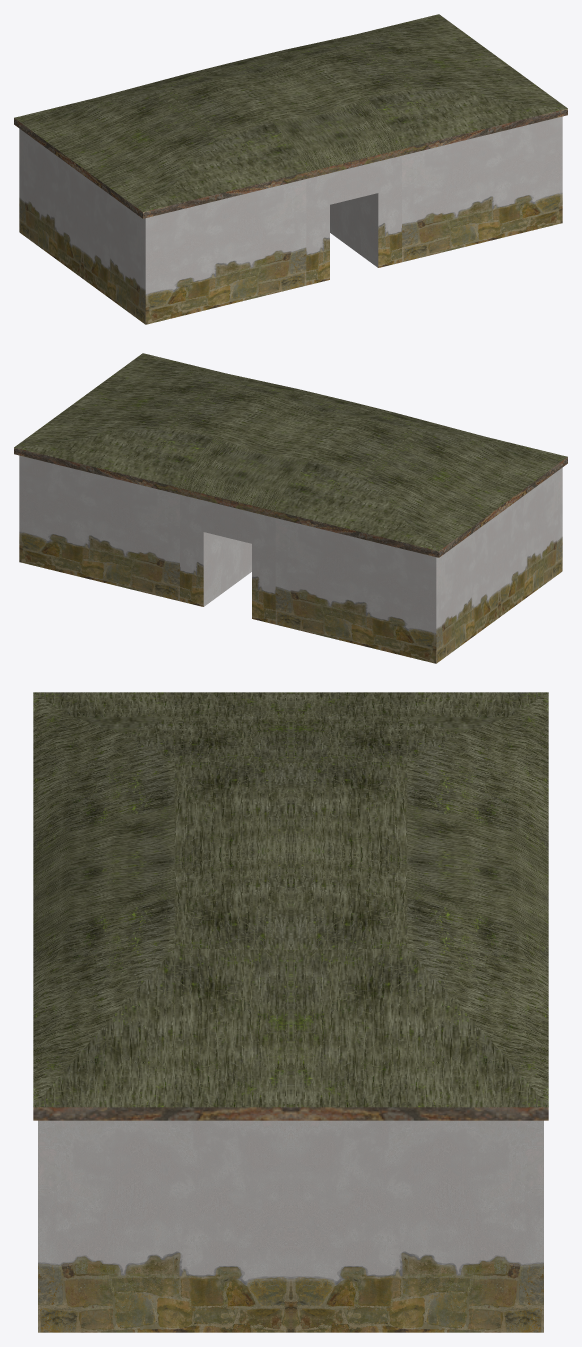
File: stockpile.obj
3 views of the same model, one above another, from view 1: azimuth 30°, elevation 25°; view 2: azimuth 150°, elevation 25°; view 3: azimuth 270°, elevation 25° (orthographic). The views are drawn at different scales.
Parts seen in each view (by area): view 1: Cube.003; view 2: Cube.003; view 3: Cube.003.
Boxes of the visible parts, <box> form: Cube.003: <box>14,14,567,324</box>; Cube.003: <box>14,353,567,663</box>; Cube.003: <box>33,692,548,1332</box>.
Size of the model in its own units: 11.7 by 3.73 by 6.15.
